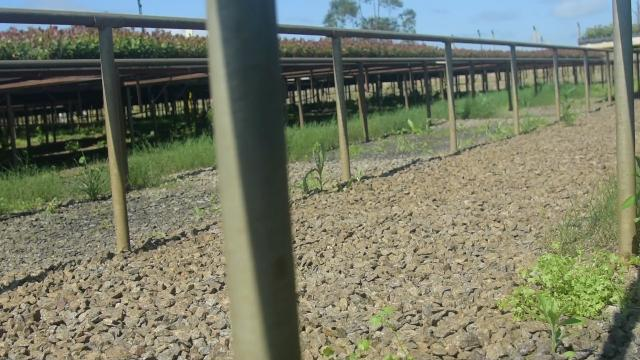MalezaMontesDelPlata: (514, 240, 631, 319), (528, 284, 574, 359), (62, 143, 110, 205), (298, 138, 331, 200)
